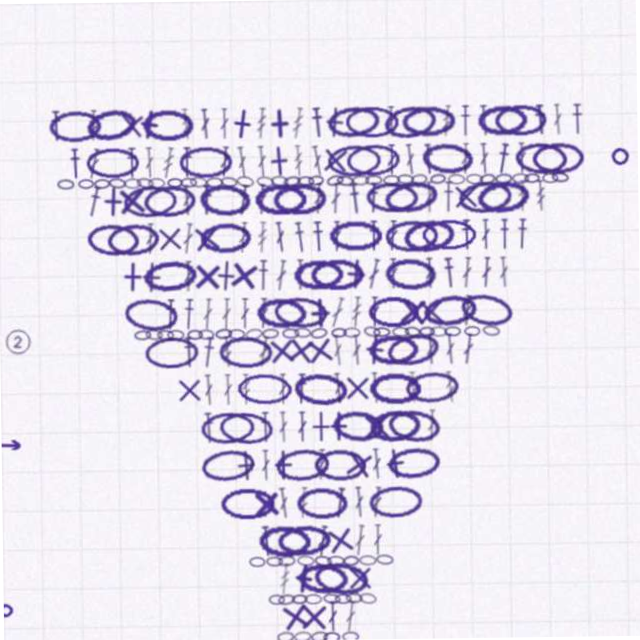chain: (458, 292, 516, 333), (384, 331, 441, 371), (384, 179, 441, 218), (87, 103, 142, 142), (385, 408, 441, 446), (309, 560, 366, 597), (198, 446, 255, 483), (123, 294, 180, 331), (403, 218, 458, 256), (385, 104, 440, 142), (422, 294, 478, 331), (217, 409, 273, 445), (459, 181, 515, 217), (292, 371, 347, 407), (477, 181, 532, 217), (330, 409, 384, 445), (273, 447, 328, 482), (385, 447, 440, 482), (273, 295, 328, 330), (143, 257, 198, 292), (329, 105, 384, 140), (124, 182, 180, 216), (367, 409, 421, 444), (200, 181, 254, 216), (423, 143, 477, 178), (87, 220, 142, 254), (404, 372, 458, 406), (107, 220, 161, 254), (144, 182, 198, 216), (516, 144, 570, 178), (366, 486, 421, 519), (199, 410, 254, 443), (236, 372, 291, 405), (385, 258, 438, 292), (274, 524, 328, 557), (144, 334, 198, 367), (274, 182, 328, 215), (367, 182, 421, 215), (348, 144, 402, 177), (294, 562, 346, 596), (256, 296, 308, 330), (329, 145, 384, 177), (255, 524, 308, 557), (218, 335, 272, 367), (386, 221, 440, 253), (404, 107, 458, 139), (534, 145, 587, 177), (51, 107, 104, 139), (218, 487, 272, 518), (423, 221, 477, 252), (88, 145, 142, 176), (181, 145, 235, 176), (348, 107, 402, 138), (294, 487, 346, 519), (312, 449, 364, 481), (368, 373, 420, 405), (201, 221, 253, 253), (145, 107, 197, 139), (311, 259, 364, 290), (330, 221, 383, 252), (497, 107, 550, 138), (368, 335, 419, 367), (294, 259, 345, 291), (480, 107, 531, 139), (368, 297, 420, 328), (256, 183, 308, 214), (363, 326, 381, 339), (238, 174, 256, 187), (328, 174, 346, 187), (274, 593, 292, 605), (319, 593, 337, 605), (355, 593, 373, 605), (311, 555, 329, 567), (245, 327, 263, 339), (310, 327, 328, 339), (482, 327, 500, 339), (138, 175, 156, 187), (222, 175, 240, 187), (258, 175, 276, 187), (285, 175, 303, 187), (338, 175, 356, 187), (404, 327, 421, 339), (481, 175, 498, 187), (145, 327, 163, 338), (110, 175, 128, 186), (553, 175, 571, 186), (342, 593, 359, 604), (275, 555, 292, 566), (294, 555, 311, 566), (373, 555, 390, 566), (215, 327, 232, 338), (294, 327, 311, 338), (192, 175, 209, 186), (273, 175, 290, 186), (399, 175, 416, 186), (310, 175, 326, 186), (413, 175, 429, 186), (432, 175, 448, 186), (301, 594, 318, 604), (331, 594, 348, 604), (263, 556, 280, 566), (324, 556, 341, 566), (356, 556, 373, 566), (134, 328, 151, 338), (157, 328, 174, 338), (167, 328, 184, 338), (228, 328, 245, 338), (262, 328, 279, 338), (282, 328, 299, 338), (343, 328, 360, 338), (373, 328, 390, 338), (392, 328, 409, 338), (430, 328, 447, 338), (444, 328, 461, 338), (59, 176, 76, 186), (126, 176, 143, 186), (150, 176, 167, 186), (182, 176, 199, 186), (208, 176, 225, 186), (299, 176, 316, 186), (354, 176, 371, 186), (367, 176, 384, 186), (385, 176, 402, 186), (450, 176, 467, 186), (468, 176, 485, 186), (497, 176, 514, 186), (514, 176, 531, 186), (265, 594, 281, 604), (288, 594, 304, 604), (246, 556, 262, 566), (340, 556, 356, 566), (187, 328, 203, 338), (198, 328, 214, 338), (331, 328, 347, 338), (419, 328, 435, 338), (464, 328, 480, 338), (80, 176, 96, 186), (96, 176, 112, 186), (169, 176, 185, 186), (526, 176, 542, 186), (544, 176, 560, 186), (273, 631, 290, 640), (290, 631, 307, 640), (307, 631, 324, 640), (319, 632, 336, 640), (338, 632, 355, 640)
double: (328, 297, 347, 329), (366, 259, 383, 291), (88, 145, 104, 177), (256, 335, 271, 367), (312, 145, 327, 177), (313, 525, 327, 557), (350, 525, 364, 557), (461, 335, 475, 367), (275, 259, 289, 291), (182, 221, 196, 253), (340, 601, 353, 633), (368, 487, 381, 519), (238, 145, 251, 177), (275, 487, 288, 518), (331, 373, 344, 404), (331, 335, 344, 366), (461, 297, 474, 328), (461, 259, 474, 290), (238, 221, 251, 252), (275, 221, 288, 252), (406, 145, 419, 176), (351, 487, 363, 518), (369, 449, 381, 480), (202, 373, 214, 404), (444, 335, 456, 366), (202, 297, 214, 328), (481, 259, 493, 290), (388, 221, 400, 252), (314, 183, 326, 214), (221, 145, 233, 176), (258, 145, 270, 176), (202, 107, 214, 138), (314, 449, 325, 480), (425, 411, 436, 442), (369, 373, 380, 404), (351, 335, 362, 366), (425, 335, 436, 366), (221, 297, 232, 328), (258, 297, 269, 328), (425, 259, 436, 290), (499, 259, 510, 290), (146, 221, 157, 252), (183, 183, 194, 214), (258, 183, 269, 214), (332, 183, 343, 214), (146, 145, 157, 176), (462, 145, 473, 176), (481, 145, 492, 176), (555, 107, 566, 138), (324, 601, 334, 632), (370, 525, 380, 556), (259, 449, 269, 480), (277, 411, 287, 442), (296, 411, 306, 442), (222, 373, 232, 404), (277, 373, 287, 404), (240, 297, 250, 328), (370, 297, 380, 328), (184, 259, 194, 290), (296, 259, 306, 290), (389, 259, 399, 290), (333, 221, 343, 252), (482, 221, 492, 252), (426, 183, 436, 214), (389, 145, 399, 176), (519, 145, 529, 176), (222, 107, 232, 138), (389, 107, 399, 138)
half_double: (87, 183, 105, 215), (497, 145, 514, 177), (200, 335, 216, 367), (237, 183, 253, 215), (330, 487, 345, 519), (349, 183, 364, 215), (294, 221, 308, 253), (182, 297, 196, 328), (443, 259, 457, 290), (313, 107, 327, 138), (480, 107, 494, 138), (536, 107, 550, 138), (257, 525, 270, 556), (201, 411, 214, 442), (294, 373, 307, 404), (182, 335, 195, 366), (164, 297, 177, 328), (313, 221, 326, 252), (517, 221, 530, 252), (71, 145, 84, 176), (424, 145, 437, 176), (258, 411, 270, 442), (258, 259, 270, 290), (369, 221, 381, 252), (462, 221, 474, 252), (202, 183, 214, 214), (369, 183, 381, 214), (444, 183, 456, 214), (128, 145, 140, 176), (183, 145, 195, 176), (53, 107, 65, 138), (462, 107, 474, 138), (574, 107, 586, 138), (500, 221, 511, 252)
noise: (3, 323, 32, 352), (612, 150, 633, 171), (0, 436, 21, 446), (0, 598, 10, 614)
single: (339, 447, 375, 483), (274, 599, 309, 634), (283, 561, 318, 596), (320, 523, 355, 558), (376, 447, 411, 482), (283, 333, 318, 368), (302, 333, 337, 368), (227, 257, 262, 292), (135, 105, 169, 140), (191, 220, 225, 254), (117, 106, 151, 140), (228, 106, 262, 140), (228, 448, 261, 481), (265, 334, 298, 367), (358, 334, 391, 367), (210, 258, 243, 291), (340, 258, 373, 291), (117, 182, 150, 215), (265, 144, 298, 177), (321, 144, 354, 177), (321, 106, 354, 139), (397, 296, 429, 329), (294, 601, 326, 633), (248, 487, 280, 519), (359, 411, 391, 443), (304, 297, 336, 329), (415, 297, 447, 329), (136, 259, 168, 291), (192, 259, 224, 291), (155, 221, 187, 253), (99, 183, 131, 215), (266, 107, 298, 139), (341, 563, 372, 594), (266, 449, 297, 480), (304, 411, 335, 442), (322, 411, 353, 442), (173, 373, 204, 404), (341, 373, 372, 404), (118, 259, 149, 290), (452, 183, 483, 214)
treble: (163, 145, 178, 177), (293, 107, 308, 139), (275, 563, 288, 594), (443, 373, 456, 404), (350, 297, 363, 328), (443, 107, 456, 138), (295, 487, 307, 518), (221, 335, 233, 366), (183, 107, 195, 138), (258, 107, 270, 138), (407, 373, 418, 404), (258, 221, 269, 252), (537, 183, 548, 214), (295, 145, 306, 176), (240, 373, 250, 404), (519, 183, 529, 214), (91, 107, 101, 138)
